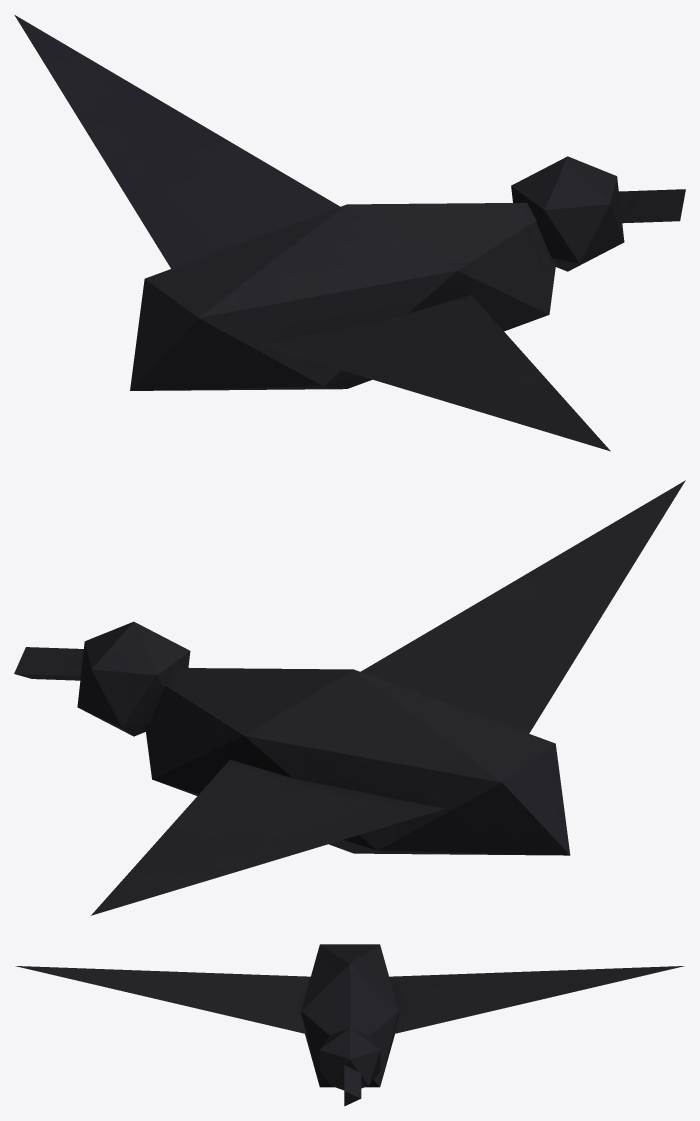
The model's file is kraka_tex.glb.
3 views of the same model, one above another, from view 1: azimuth 30°, elevation 25°; view 2: azimuth 150°, elevation 25°; view 3: azimuth 270°, elevation 25° (orthographic). The views are drawn at different scales.
Parts seen in each view (by area): view 1: kraka; view 2: kraka; view 3: kraka.
Boxes of the visible parts, bbox=[...] form: kraka: bbox=[14, 15, 685, 451]; kraka: bbox=[14, 480, 685, 915]; kraka: bbox=[15, 944, 684, 1106].
Bounding box in the file's own units: 0.7991 × 0.256 × 1.5.
Materials: 1 (1 with a texture image).
